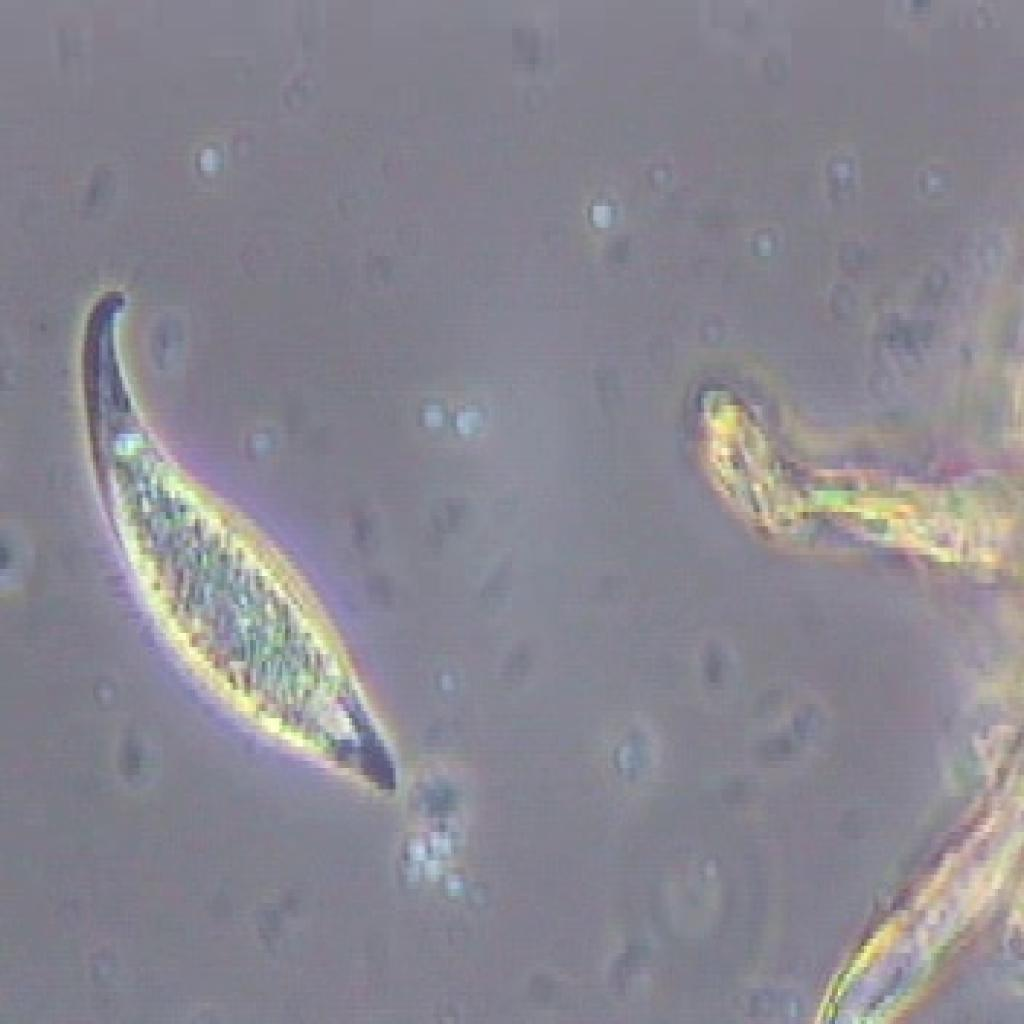Pristina: (58, 267, 416, 832)
